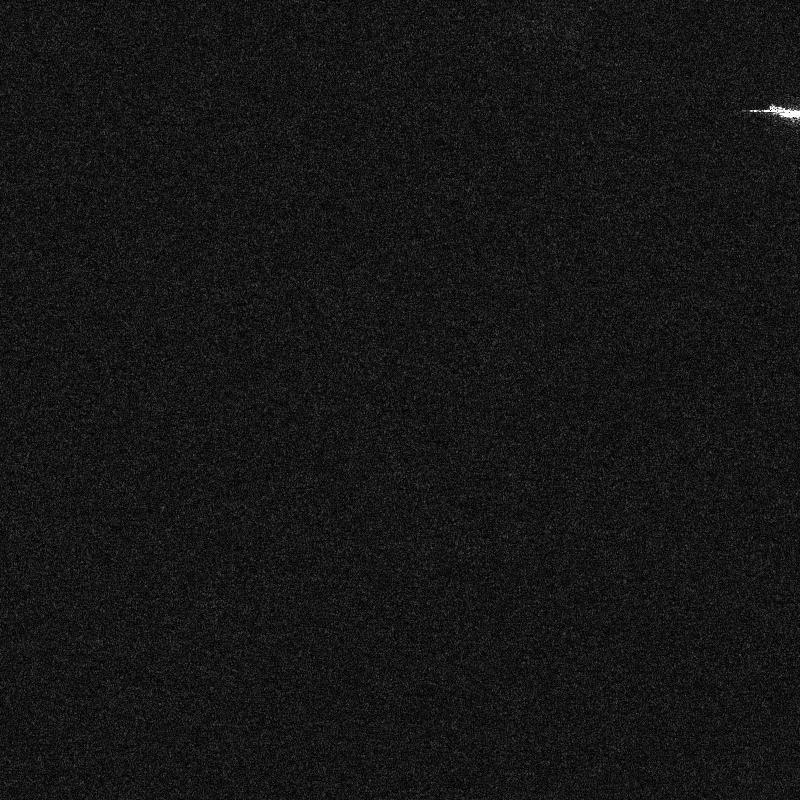ship: (749, 104, 799, 119)
